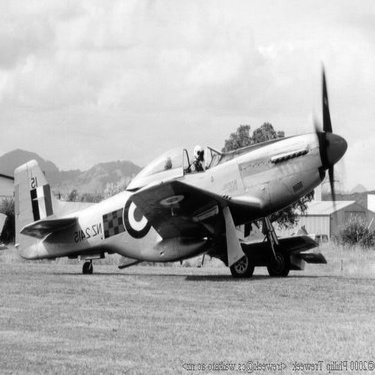airplane: (11, 53, 357, 289)
